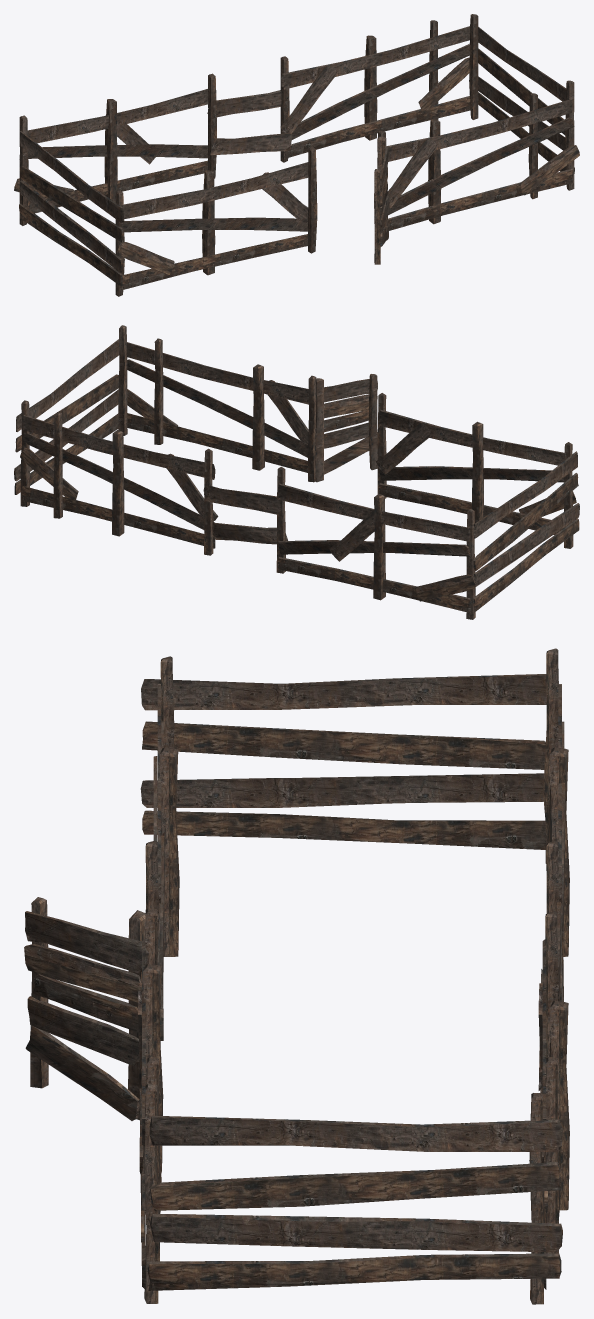
Rendered from fence2.fbx.
The picture shows the model from 3 angles, top to bottom: view 1: azimuth 30°, elevation 25°; view 2: azimuth 150°, elevation 25°; view 3: azimuth 270°, elevation 25°; orthographic projection. The views are drawn at different scales.
Parts seen in each view (by area): view 1: fence_LOD0; view 2: fence_LOD0; view 3: fence_LOD0.
Boxes of the visible parts, x1,y1,x2,y2 form: fence_LOD0: [14, 14, 579, 296]; fence_LOD0: [14, 325, 579, 619]; fence_LOD0: [24, 648, 569, 1304].
Size of what is drawn, in the model's own units: 8.07 by 1.82 by 4.14.
